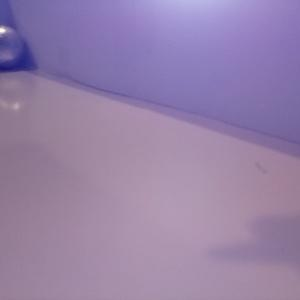alive_ball: (1, 24, 24, 70)
